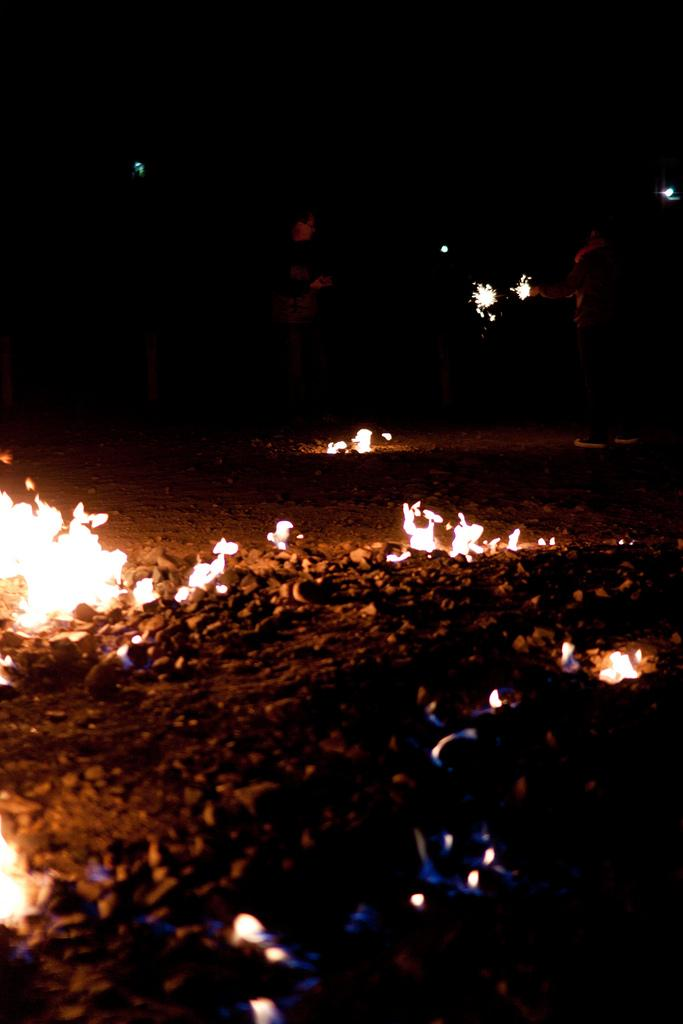fire: (8, 485, 128, 635)
